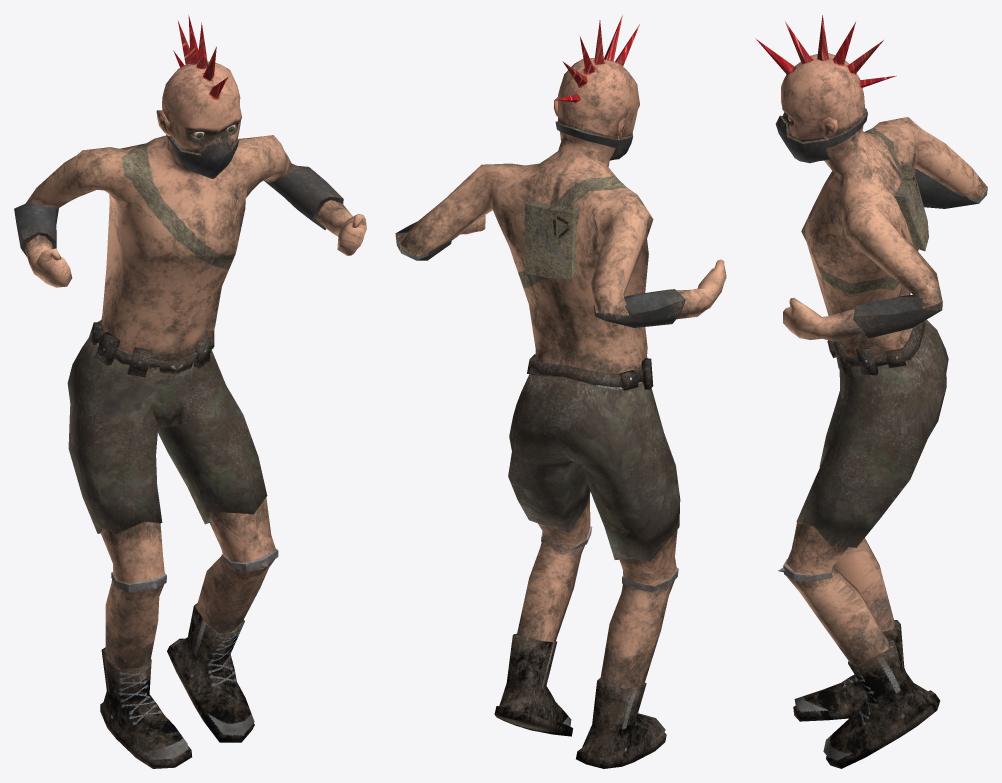
Rendered from Anim_ataque_d3_npc2.0039.obj.
3 views of the same model, side by side, from view 1: azimuth 30°, elevation 25°; view 2: azimuth 150°, elevation 25°; view 3: azimuth 270°, elevation 25° (orthographic).
Visible parts, largest first — view 1: polySurface1; view 2: polySurface1; view 3: polySurface1.
Boxes of the visible parts, x1,y1,x2,y2 form: polySurface1: (14,15,366,768); polySurface1: (395,15,726,768); polySurface1: (755,15,987,768).
Size of the model in its own units: 4.33 by 9.96 by 2.88.
